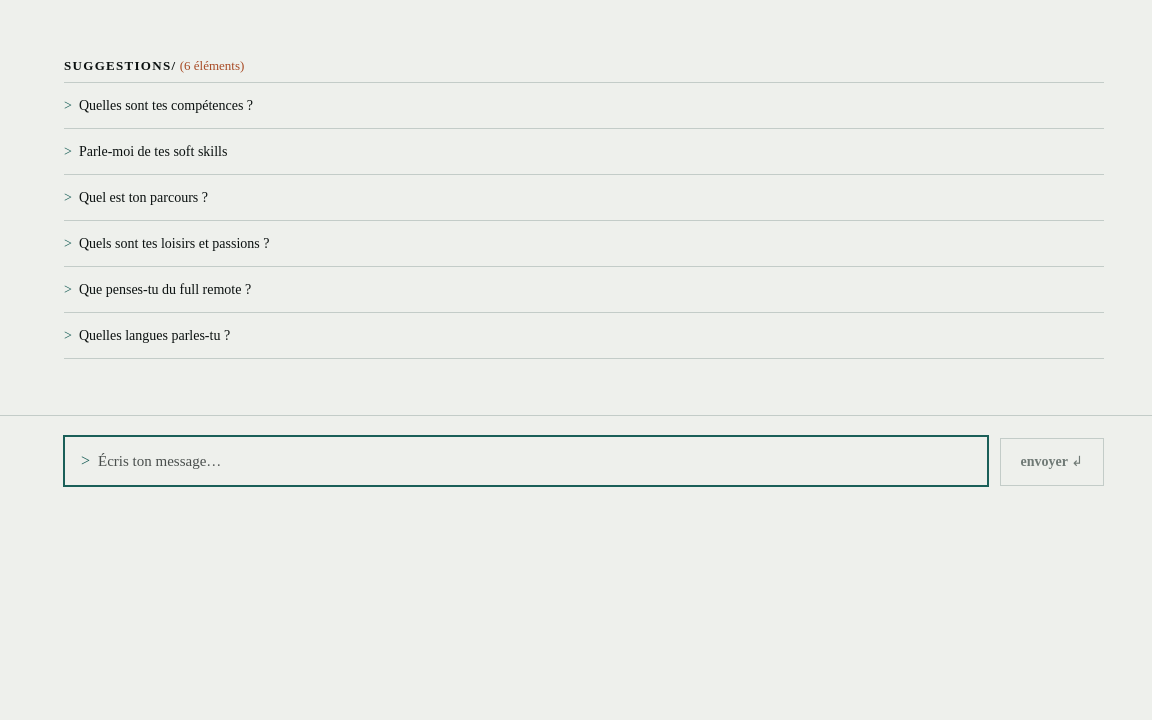
Test case: ChatInterface › affiche la réponse de l'assistant après le délai
In the text box named "message à envoyer": (534, 460) [98, 448, 971, 472], type "Bonjour"
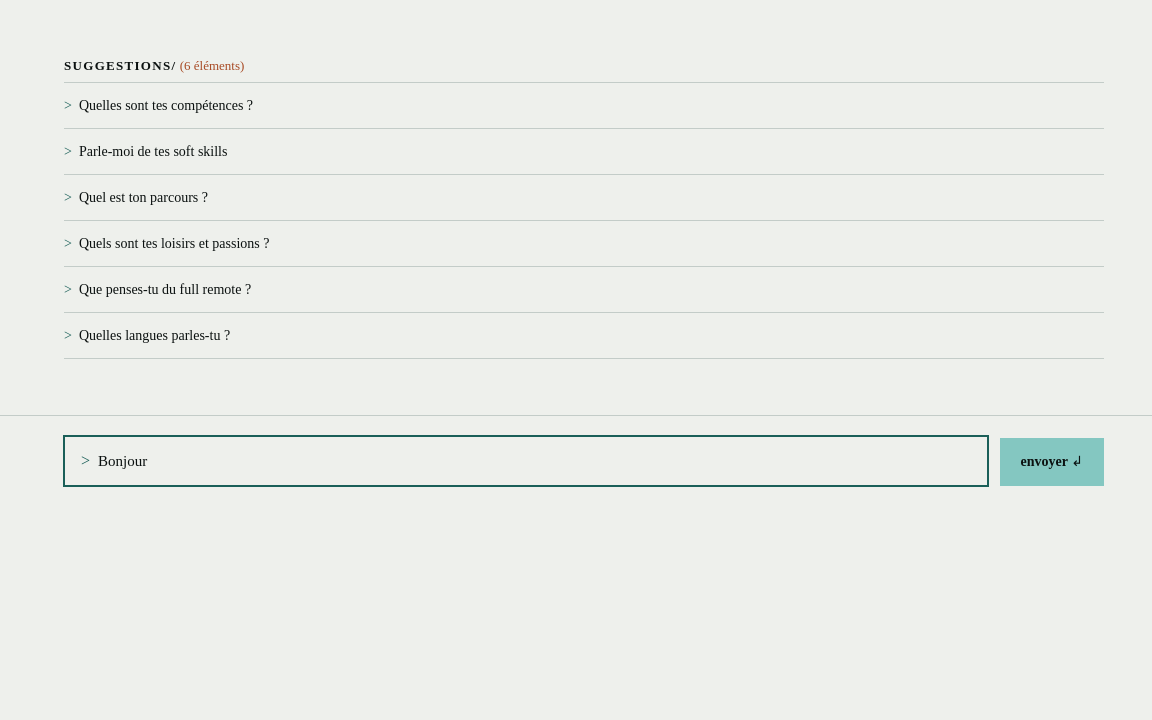
Click the button "envoyer ↲": (1052, 462) [1000, 438, 1104, 486]
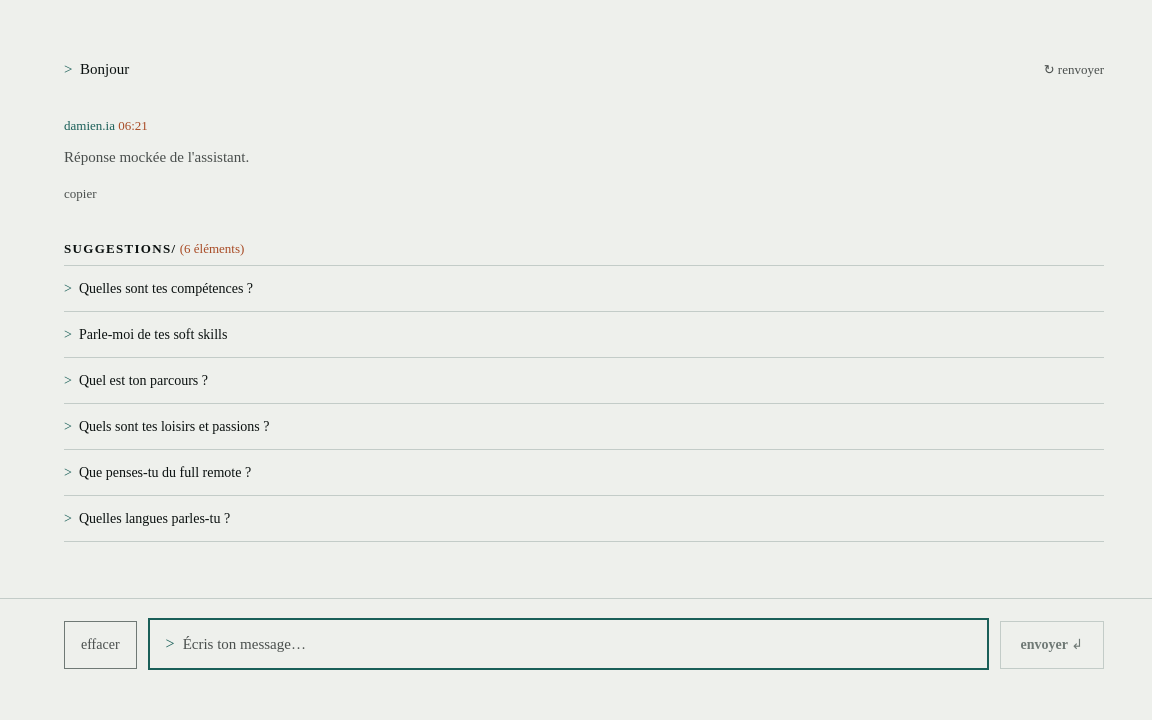
Check: the text "Réponse mockée de l'assistant." is shown, box [64, 149, 249, 165]
